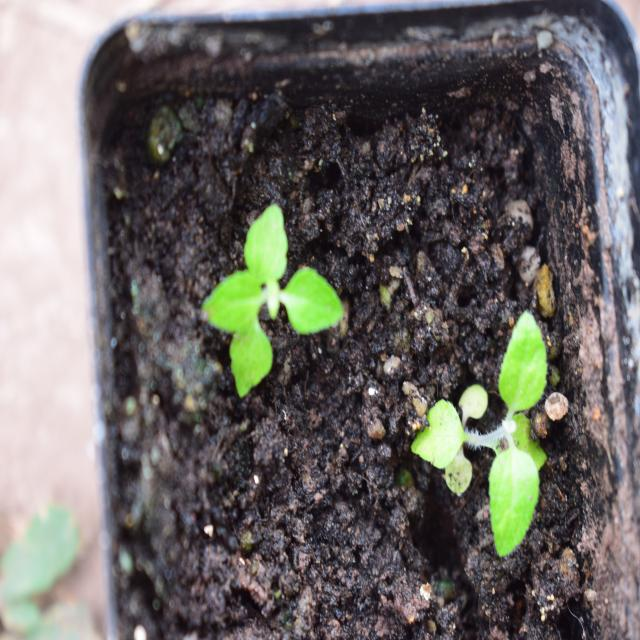billygoat_weed: (410, 340, 590, 539), (208, 219, 361, 387)
